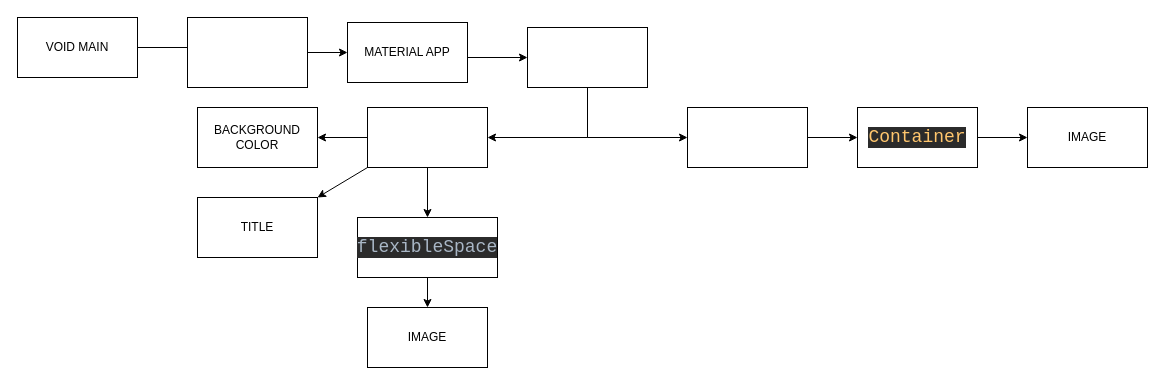
The diagram is 1165 pixels wide and 385 high, and some of its shapes have lost their labels. Each missing label, with the centre of its shape:
"APPBAR" goes at (427,137).
"BODY" goes at (747,137).
"RunApp" goes at (247,52).
"SCAFFOLD" goes at (587,57).
